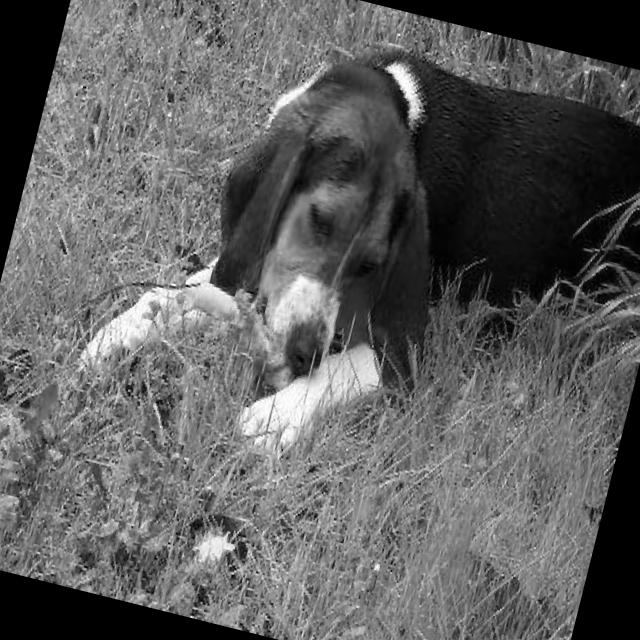laying down: (57, 0, 640, 552)
